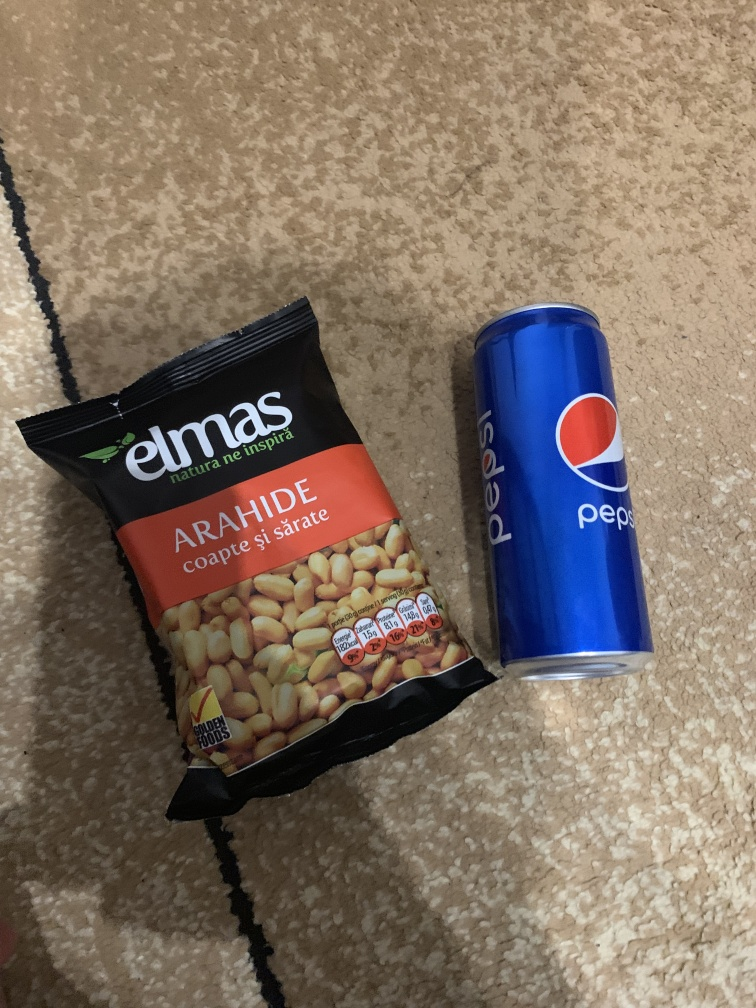peanuts: (28, 290, 496, 840)
pepsi: (462, 303, 667, 694)
